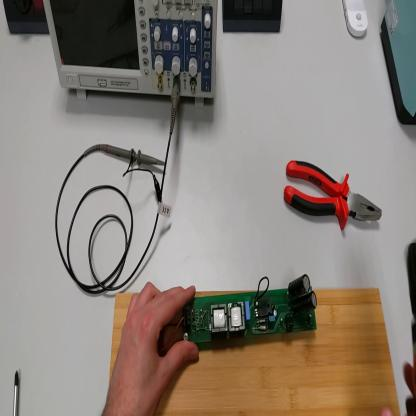electric screwdriver: (403, 244, 416, 416)
hand: (108, 282, 201, 416), (378, 359, 416, 414)
high voltage board: (158, 269, 319, 358)
oscilloscope: (43, 2, 219, 108)
oscilloscope probe tip: (100, 144, 169, 171)
pliers: (283, 162, 387, 236)
screwdriver-: (14, 367, 23, 414)
socket: (4, 1, 50, 38)
welder station: (383, 1, 416, 130)
working area: (112, 288, 400, 415)
